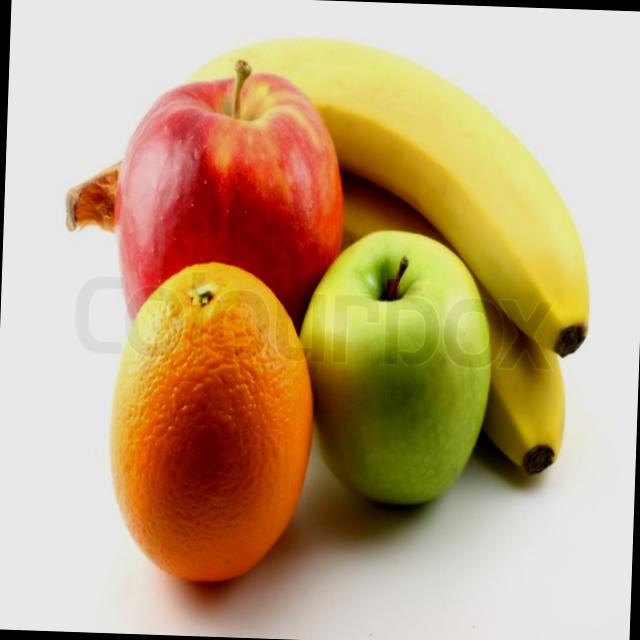apple: (101, 96, 366, 377)
banana: (162, 30, 612, 367)
orange: (100, 258, 322, 600)
